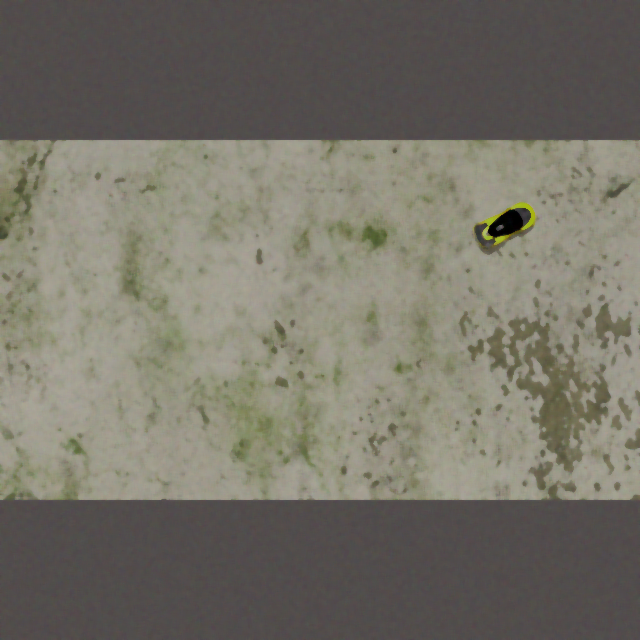car: (467, 193, 545, 253)
